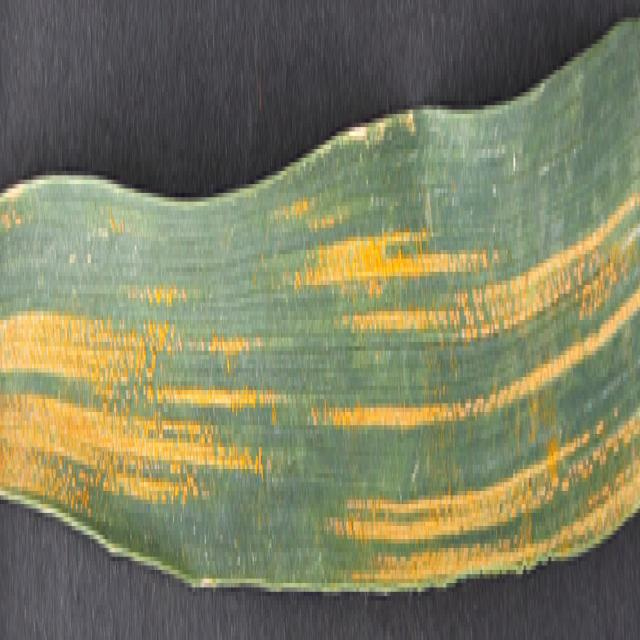leaf rust: (1, 171, 638, 609)
